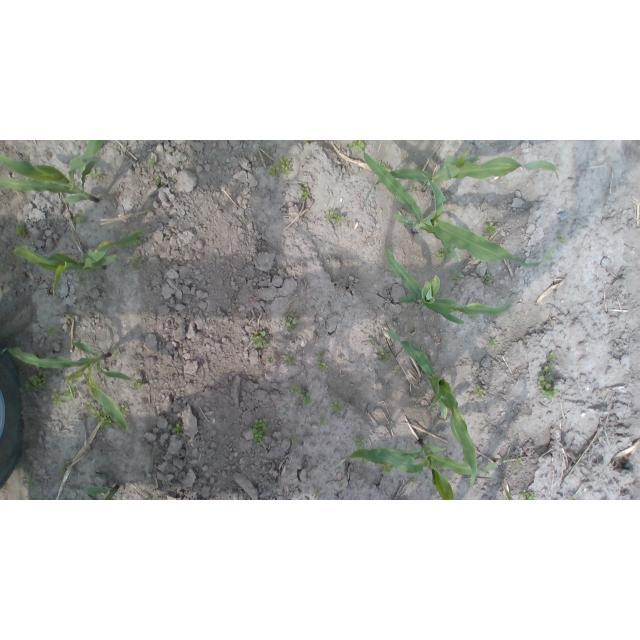Maize: (362, 147, 561, 270), (380, 327, 479, 490), (0, 341, 138, 435), (384, 240, 515, 327), (13, 230, 144, 299), (335, 449, 501, 498), (1, 140, 111, 205), (86, 484, 121, 500)
Weeds: (81, 402, 129, 429), (539, 353, 560, 398), (49, 380, 76, 405), (27, 466, 44, 498), (23, 374, 46, 395), (269, 156, 292, 176), (253, 418, 267, 446), (290, 389, 310, 404), (325, 210, 345, 224), (375, 159, 393, 173), (253, 333, 267, 348), (88, 167, 104, 180), (377, 352, 391, 366), (349, 141, 366, 152), (130, 256, 143, 270), (302, 182, 311, 201), (317, 354, 327, 370), (356, 436, 367, 450), (74, 215, 87, 226), (287, 316, 298, 329), (172, 425, 185, 435), (331, 401, 345, 410), (285, 356, 296, 367), (452, 271, 463, 282), (484, 222, 496, 232), (17, 225, 27, 236), (133, 380, 144, 389), (522, 493, 536, 500), (485, 275, 494, 285), (48, 326, 59, 334), (438, 250, 447, 259), (384, 465, 394, 473), (477, 386, 484, 397), (146, 159, 154, 168), (491, 337, 498, 345), (155, 178, 162, 186), (320, 420, 327, 427), (371, 338, 377, 346), (292, 435, 297, 444), (268, 357, 272, 362)
